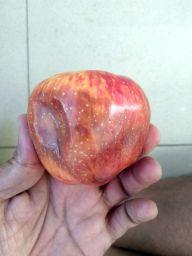apple: (15, 57, 175, 200)
